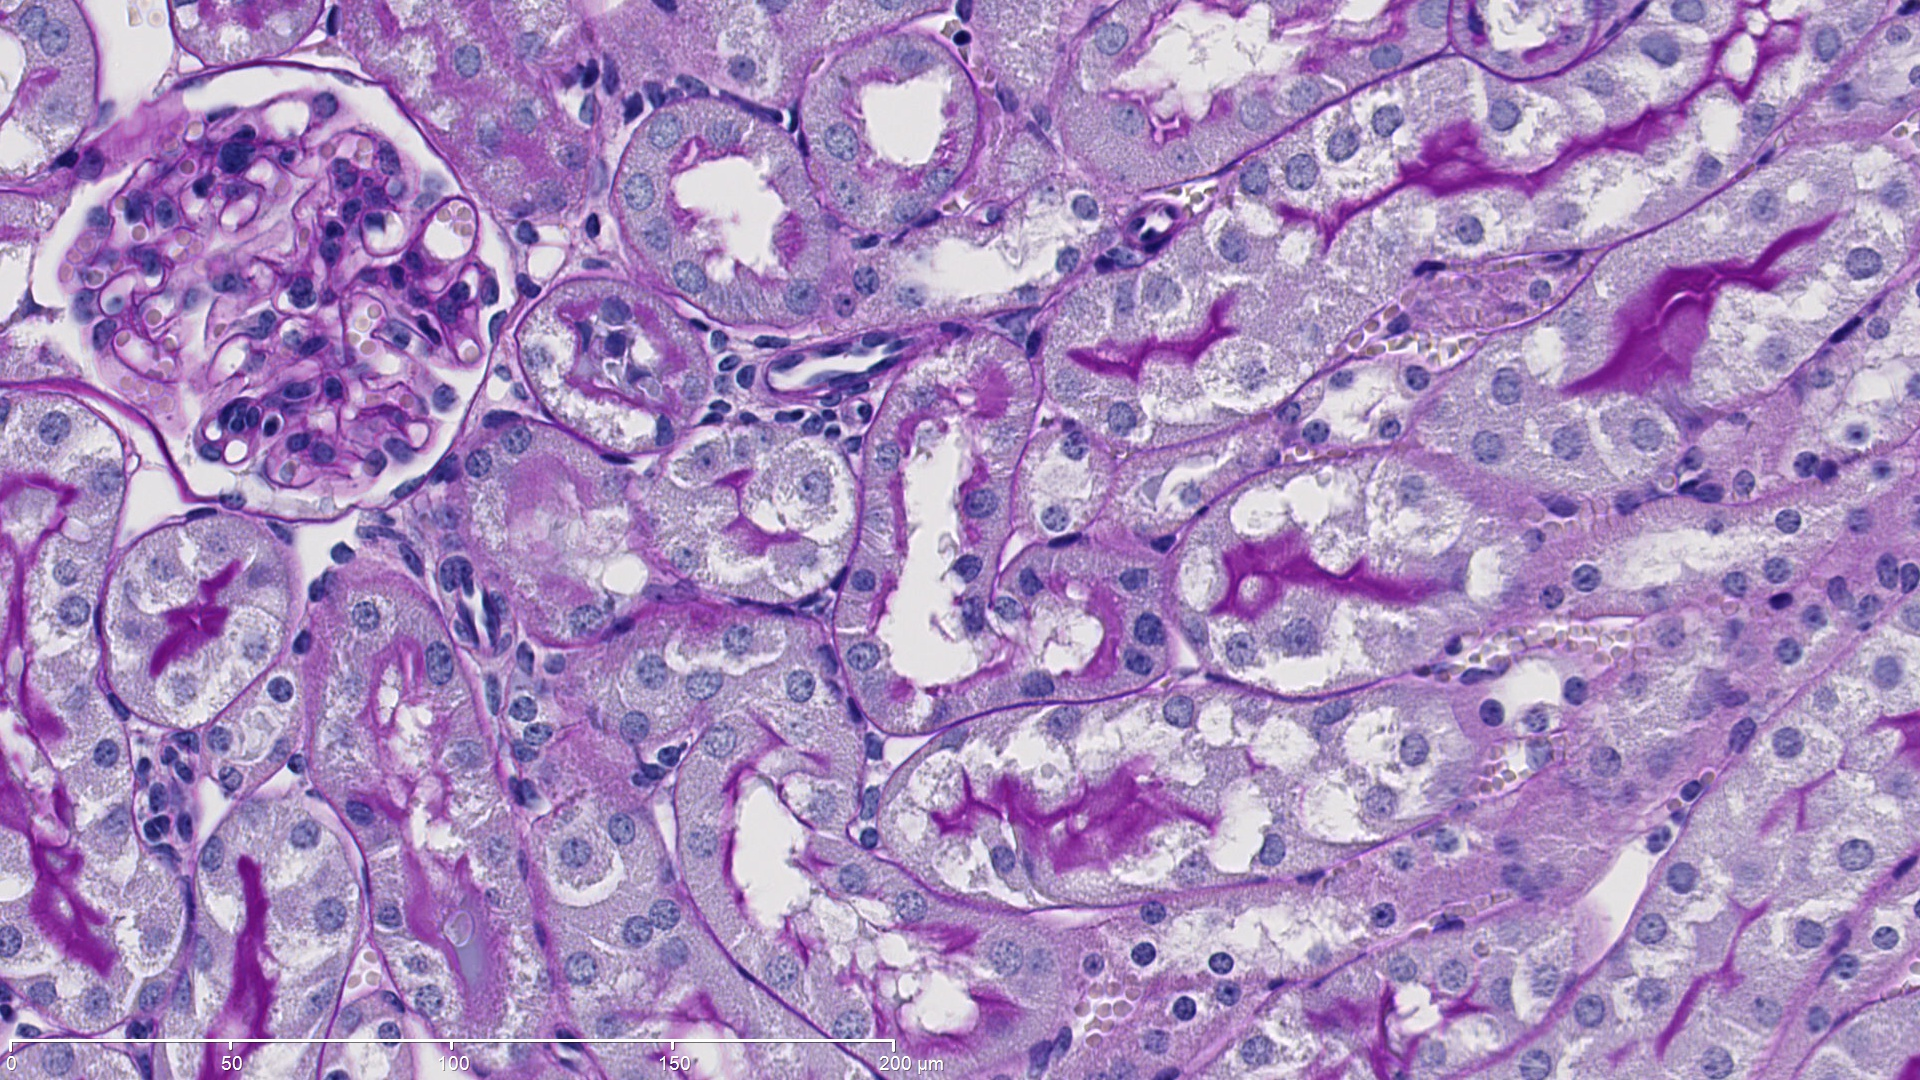Glomeruli: (61, 90, 512, 495)
